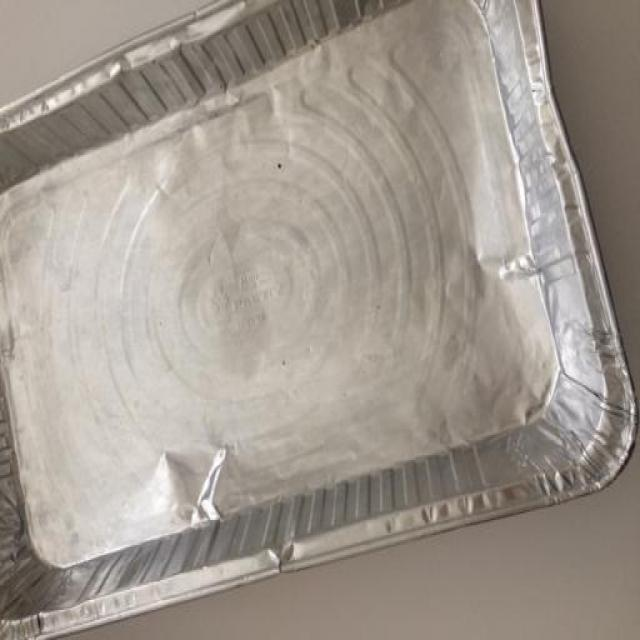metel: (1, 1, 640, 631)
